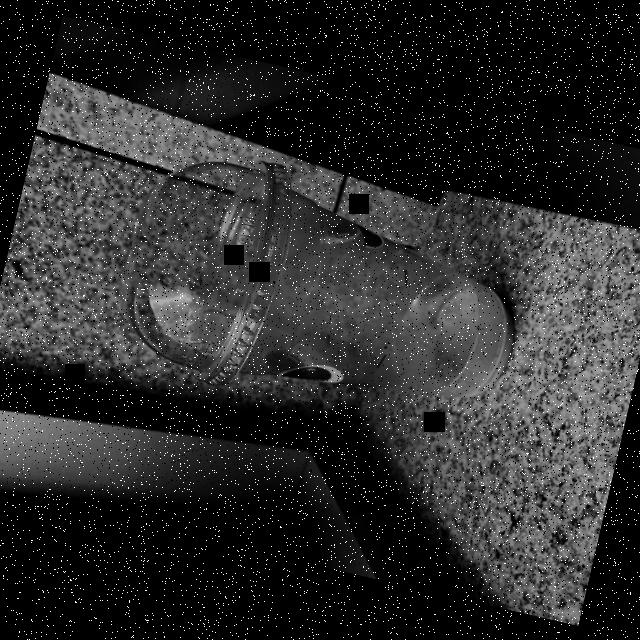plastic_cup: (93, 128, 544, 458)
plastic_cup_lid: (99, 124, 308, 395)
